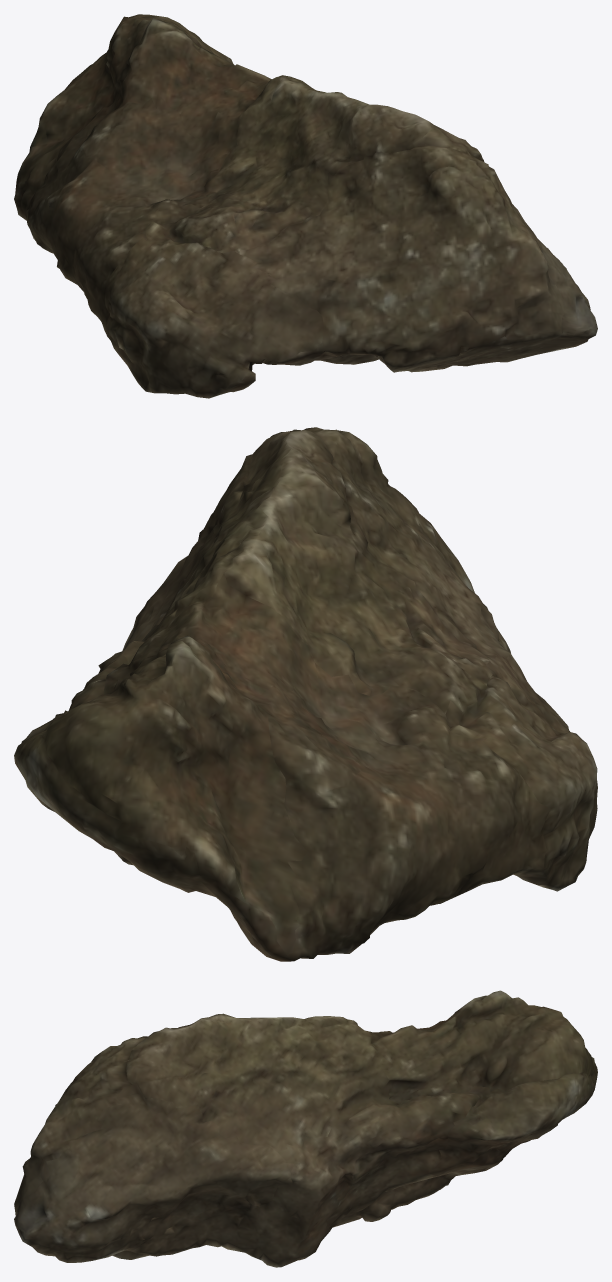
The model's file is B_Rock_01.fbx.
The picture shows the model from 3 angles, top to bottom: view 1: azimuth 30°, elevation 25°; view 2: azimuth 150°, elevation 25°; view 3: azimuth 270°, elevation 25°; orthographic projection. The views are drawn at different scales.
Visible parts, largest first — view 1: B_Rock_01_LOD0; view 2: B_Rock_01_LOD0; view 3: B_Rock_01_LOD0.
Boxes of the visible parts, x1,y1,x2,y2 form: B_Rock_01_LOD0: (14, 14, 597, 398); B_Rock_01_LOD0: (14, 427, 597, 961); B_Rock_01_LOD0: (14, 990, 597, 1267).
Size of what is drawn, in the model's own units: 1.86 by 1.22 by 2.8.
